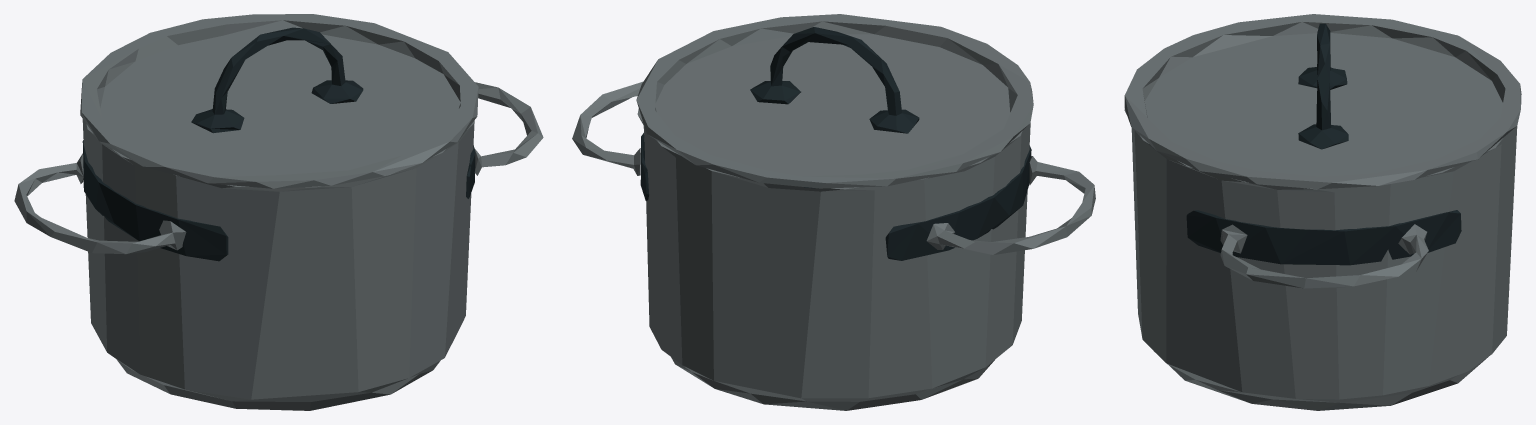
Rendered from Pot01.fbx.
3 views of the same model, side by side, from view 1: azimuth 30°, elevation 25°; view 2: azimuth 150°, elevation 25°; view 3: azimuth 270°, elevation 25° (orthographic).
Visible parts, largest first — view 1: Pot01LowPoly, Pot01LidLowPoly; view 2: Pot01LowPoly, Pot01LidLowPoly; view 3: Pot01LowPoly, Pot01LidLowPoly.
Boxes of the visible parts, x1=… form: Pot01LowPoly: x1=14, y1=82, x2=543, y2=410; Pot01LidLowPoly: x1=80, y1=14, x2=478, y2=188; Pot01LowPoly: x1=572, y1=81, x2=1095, y2=410; Pot01LidLowPoly: x1=636, y1=14, x2=1033, y2=188; Pot01LowPoly: x1=1124, y1=109, x2=1517, y2=410; Pot01LidLowPoly: x1=1124, y1=14, x2=1521, y2=189.
Bounding box in the file's own units: 39.17 × 23.78 × 27.81.
